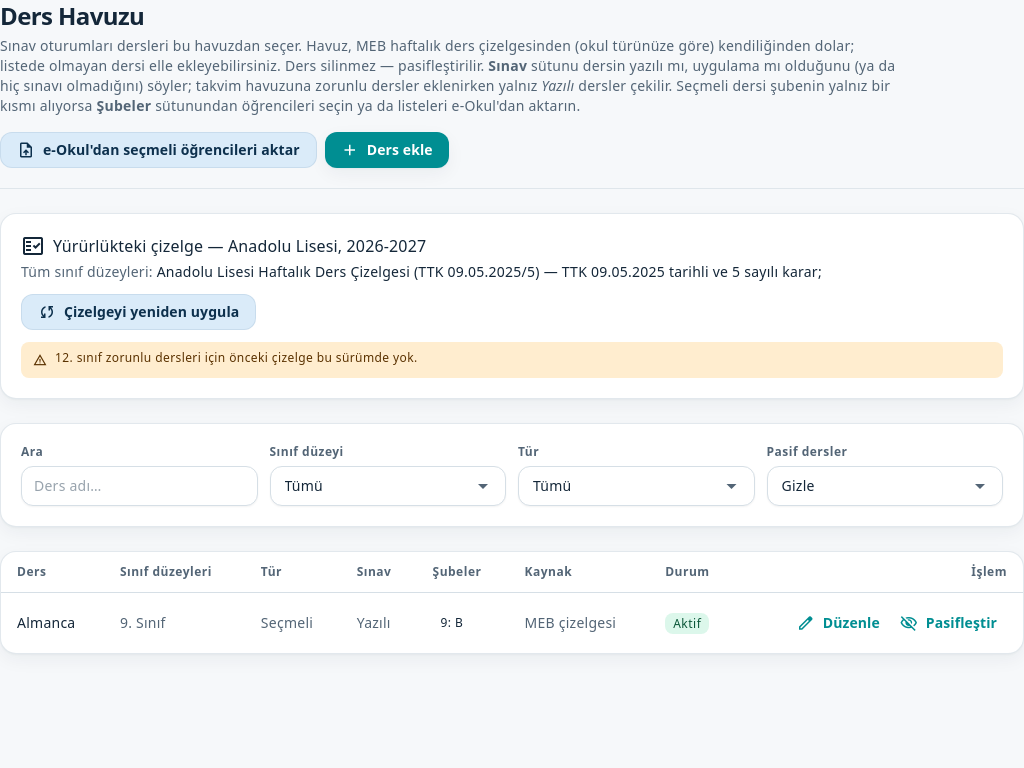
it: DersHavuzuPage › kayıtlı kapsam diyaloğa yüklenir
Click the button named "Almanca dersinin şubelerini düzenle". click: (452, 623)
box: [432,611,471,635]
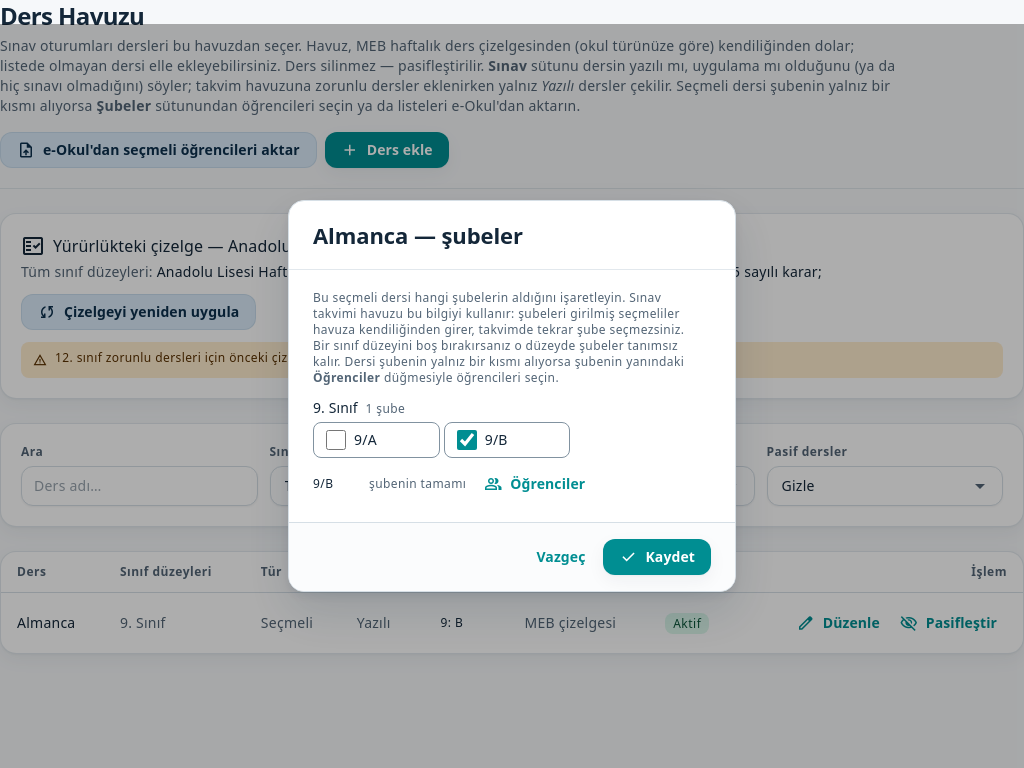
Check: the checkbox named "Almanca 9. Sınıf: 9/B" is checked, box [457,430,477,450]
Check: the checkbox named "Almanca 9. Sınıf: 9/A" is not checked, box [326,430,346,450]
